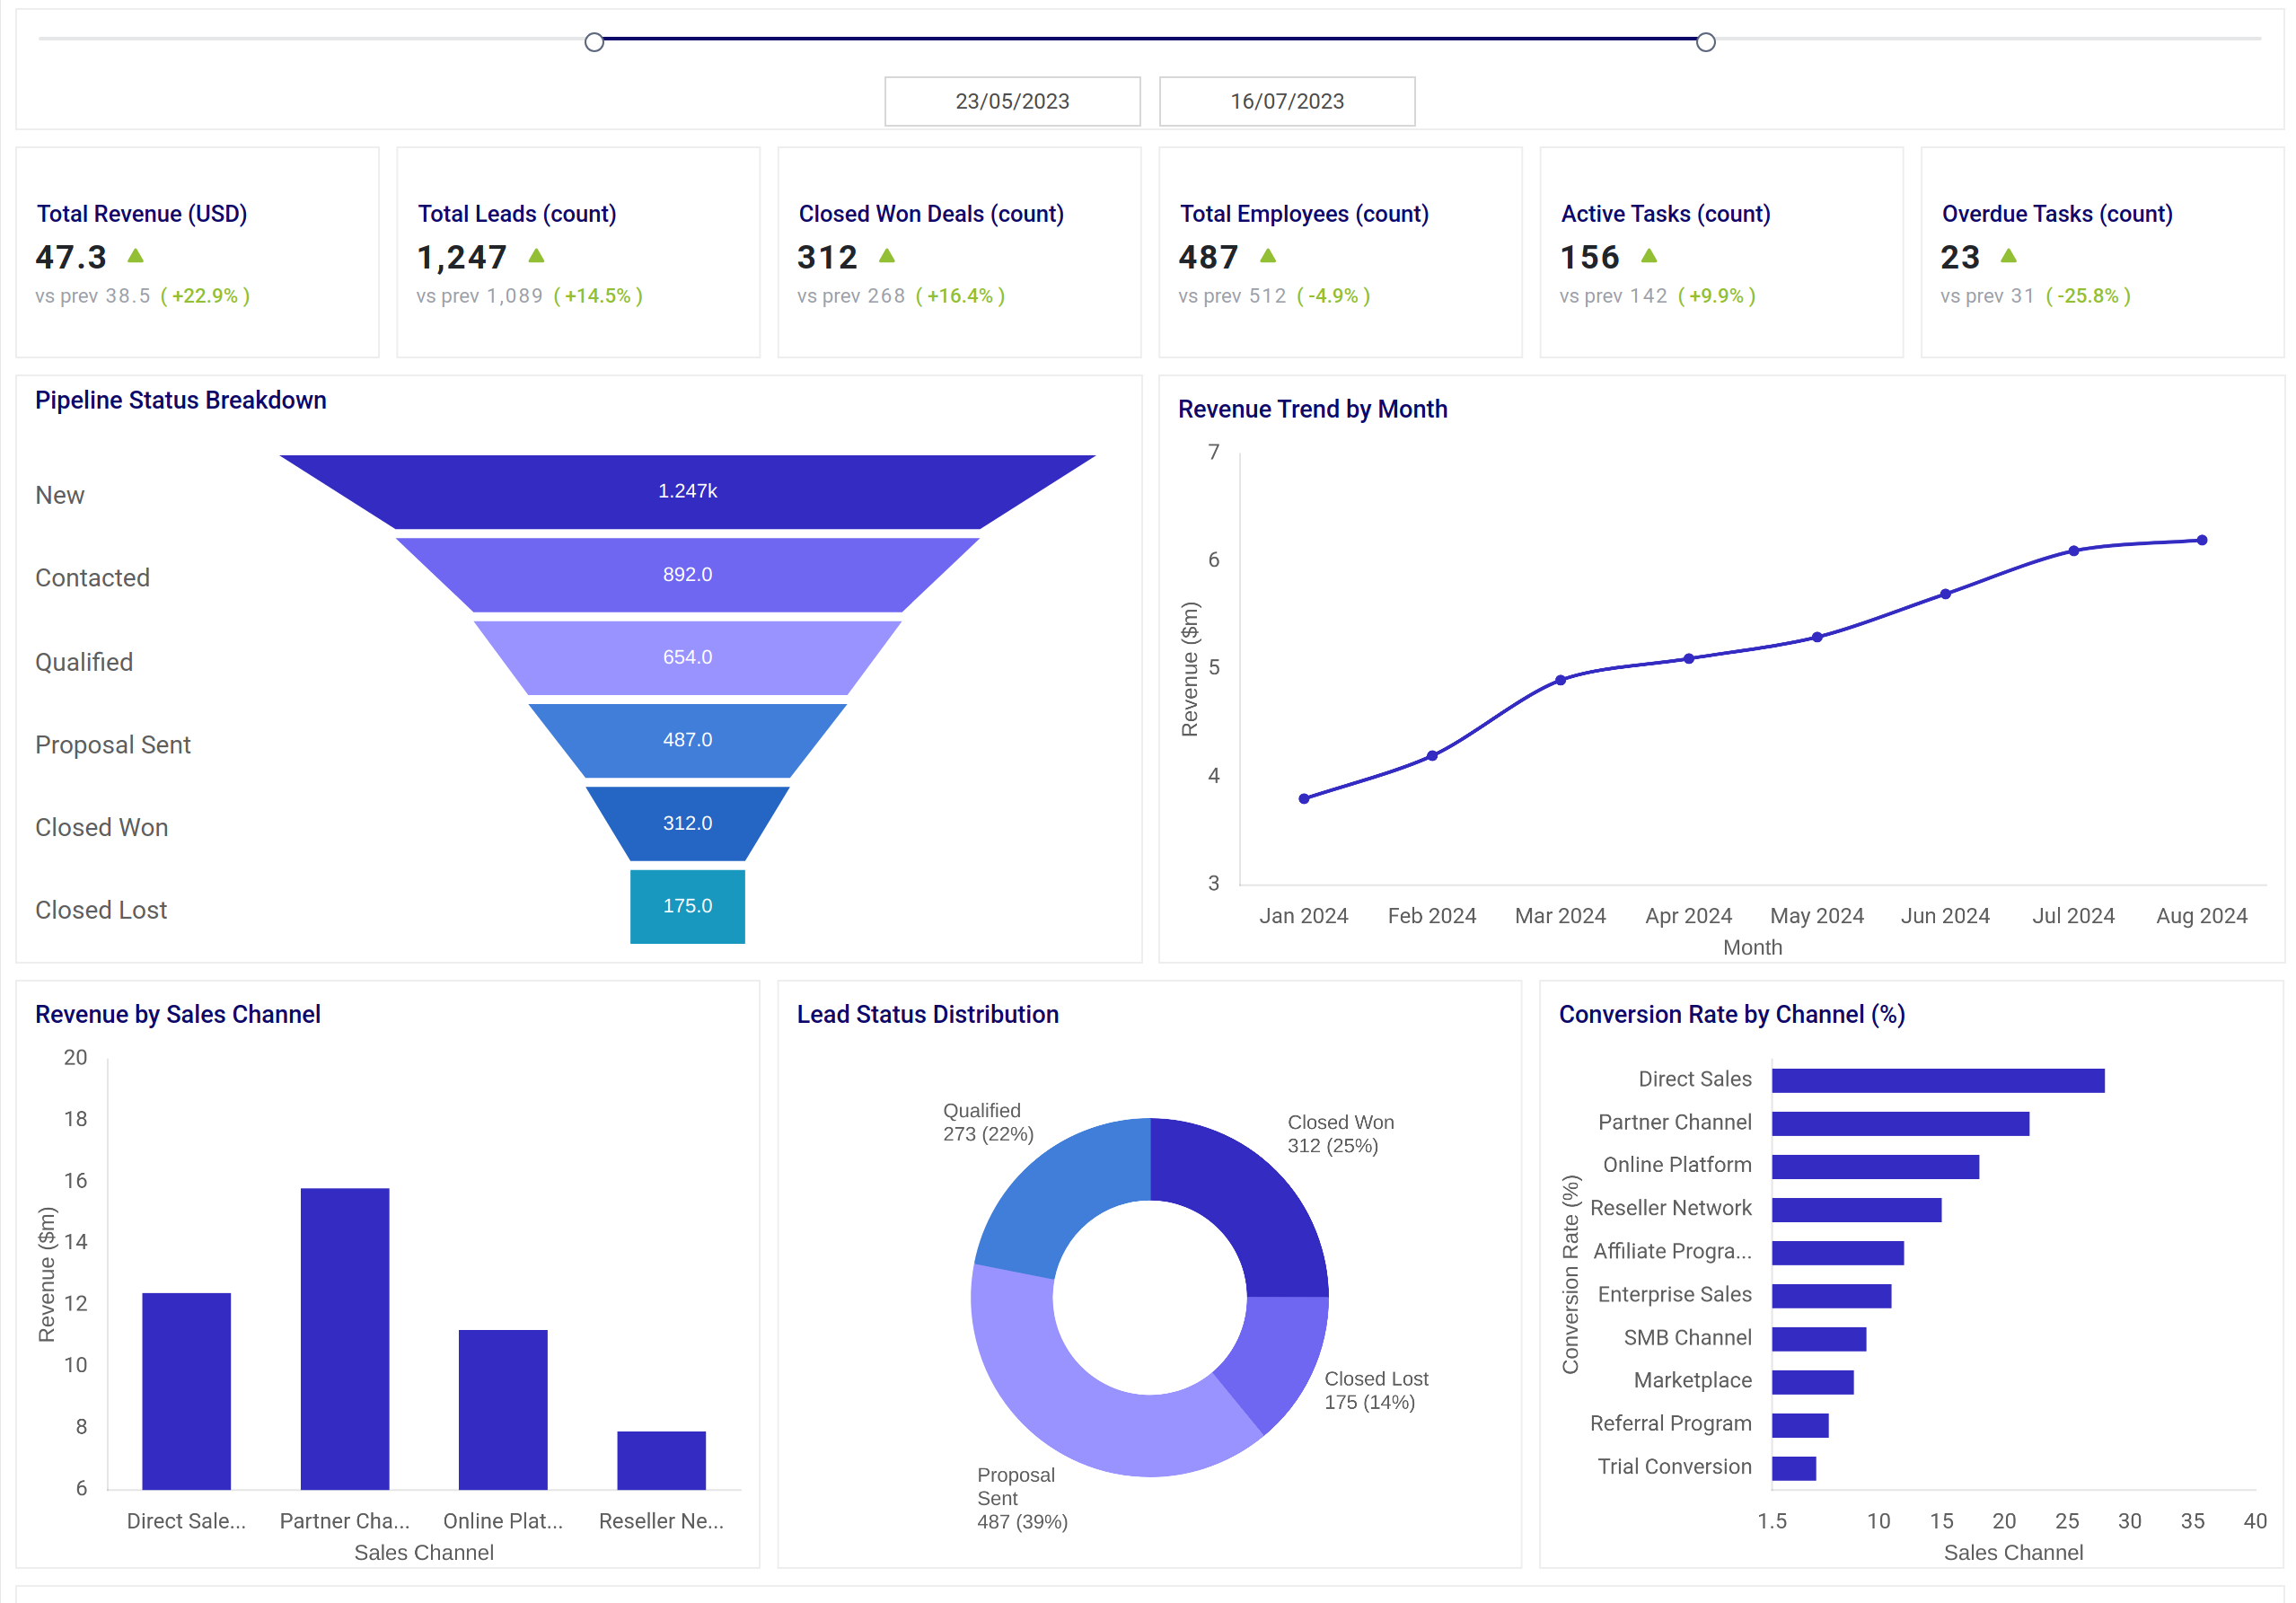

The dashboard page shown, as its layout file describes it:
{"tool":"powerbi","page":{"name":"Executive Overview - CEO Snapshot","canvas":[1280,1194],"ordinal":0},"visuals":[{"type":"group","id":"g1","title":"Group 1","box":[7,7,1266,55],"z":0},{"type":"shape","box":[7,7,1266,55],"z":0,"group":"g1"},{"type":"shape","box":[953.5,19,316.5,30],"z":0,"group":"g15"},{"type":"shape","box":[7,69,1266,70],"z":0,"group":"g14"},{"type":"shape","box":[7,146,205.2,120],"z":0,"group":"g13"},{"type":"shape","box":[219.2,146,205.2,120],"z":0,"group":"g12"},{"type":"shape","box":[431.4,146,205.2,120],"z":0,"group":"g11"},{"type":"shape","box":[643.6,146,205.2,120],"z":0,"group":"g10"},{"type":"shape","box":[855.8,146,205.2,120],"z":0,"group":"g9"},{"type":"shape","box":[1068,146,205,120],"z":0,"group":"g8"},{"type":"shape","box":[7,273,629.5,330],"z":0,"group":"g7"},{"type":"shape","box":[643.5,273,629.5,330],"z":0,"group":"g6"},{"type":"shape","box":[7,610,417.3,330],"z":0,"group":"g5"},{"type":"shape","box":[431.3,610,417.3,330],"z":0,"group":"g4"},{"type":"shape","box":[855.6,610,417.4,330],"z":0,"group":"g3"},{"type":"shape","box":[7,947,1266,240],"z":0,"group":"g2"},{"type":"shape","box":[8,948,1264,30],"z":0,"group":"g17"},{"type":"shape","title":"null","box":[9,71,1264,20],"z":10,"group":"g16"},{"type":"group","id":"g2","title":"Group 1","box":[7,947,1266,240],"z":50},{"type":"group","id":"g3","title":"Group 1","box":[855.6,610,417.4,330],"z":100},{"type":"group","id":"g4","title":"Group 1","box":[431.3,610,417.3,330],"z":150},{"type":"group","id":"g5","title":"Group 1","box":[7,610,417.3,330],"z":200},{"type":"group","id":"g6","title":"Group 1","box":[643.5,273,629.5,330],"z":250},{"type":"group","id":"g7","title":"Group 1","box":[7,273,629.5,330],"z":300},{"type":"group","id":"g8","title":"Group 1","box":[1068,146,205,120],"z":350},{"type":"group","id":"g9","title":"Group 1","box":[855.8,146,205.2,120],"z":400},{"type":"group","id":"g10","title":"Group 1","box":[643.6,146,205.2,120],"z":450},{"type":"group","id":"g11","title":"Group 1","box":[431.4,146,205.2,120],"z":500},{"type":"group","id":"g12","title":"Group 1","box":[219.2,146,205.2,120],"z":550},{"type":"group","id":"g13","title":"Group 1","box":[7,146,205.2,120],"z":600},{"type":"group","id":"g14","title":"Group 1","box":[7,69,1266,70],"z":650},{"type":"slicer","fields":{"Values":["dim date.Date"]},"box":[9,91,1264,47],"z":652,"group":"g16"},{"type":"group","id":"g15","title":"Group 1","box":[7,19,1266,30],"z":1000,"group":"g1"},{"type":"shape","box":[7,19,949.5,30],"z":1000,"group":"g15"},{"type":"group","id":"g16","title":"Group 1","box":[8,70,1264,70],"z":1000,"group":"g14"},{"type":"kpi","title":"Total Revenue (USD)","fields":{"TrendLine":["dim date.Month"],"Indicator":["dim measure.total revenue (usd) current"],"Goal":["dim measure.total revenue (usd) vs prev"]},"box":[7,146,203.2,117],"z":1000,"group":"g13"},{"type":"kpi","title":"Total Leads (count)","fields":{"TrendLine":["dim date.Month"],"Indicator":["dim measure.total leads (count) current"],"Goal":["dim measure.total leads (count) vs prev"]},"box":[219.2,146,203.2,117],"z":1000,"group":"g12"},{"type":"kpi","title":"Closed Won Deals (count)","fields":{"TrendLine":["dim date.Month"],"Indicator":["dim measure.closed won deals (count) current"],"Goal":["dim measure.closed won deals (count) vs prev"]},"box":[431.4,146,203.2,117],"z":1000,"group":"g11"},{"type":"kpi","title":"Total Employees (count)","fields":{"TrendLine":["dim date.Month"],"Indicator":["dim measure.total employees (count) current"],"Goal":["dim measure.total employees (count) vs prev"]},"box":[643.6,146,203.2,117],"z":1000,"group":"g10"},{"type":"kpi","title":"Active Tasks (count)","fields":{"TrendLine":["dim date.Month"],"Indicator":["dim measure.active tasks (count) current"],"Goal":["dim measure.active tasks (count) vs prev"]},"box":[855.8,146,203.2,117],"z":1000,"group":"g9"},{"type":"kpi","title":"Overdue Tasks (count)","fields":{"TrendLine":["dim date.Month"],"Indicator":["dim measure.overdue tasks (count) current"],"Goal":["dim measure.overdue tasks (count) vs prev"]},"box":[1068,146,203,117],"z":1000,"group":"g8"},{"type":"shape","box":[8,274,627.5,30],"z":1000,"group":"g7"},{"type":"shape","box":[644.5,274,627.5,30],"z":1000,"group":"g6"},{"type":"shape","box":[8,611,415.3,30],"z":1000,"group":"g5"},{"type":"shape","box":[432.3,611,415.3,30],"z":1000,"group":"g4"},{"type":"shape","box":[856.6,611,415.4,30],"z":1000,"group":"g3"},{"type":"group","id":"g17","title":"Group 1","box":[7,947,1264,300],"z":1000,"group":"g2"},{"type":"tableEx","fields":{"Values":["Fact.simpletable_fact_1188","Fact.simpletable_fact_1189","Fact.simpletable_fact_1190","Fact.simpletable_fact_1191","Fact.simpletable_fact_1192","Fact.simpletable_fact_1193"]},"box":[8,978,1264,270],"z":1000,"group":"g17"},{"type":"funnel","fields":{"Category":["Pipeline status breakdown.funnel"],"Y":["Sum(Fact.funnel_fact_29)"]},"box":[8,304,627.5,297],"z":2000,"group":"g7"},{"type":"lineChart","title":"Title goes here","fields":{"Category":["Month237.linechart"],"Y":["Sum(Fact.revenue_158)"]},"box":[644.5,304,627.5,297],"z":2000,"group":"g6"},{"type":"clusteredColumnChart","title":"Title goes here","fields":{"Category":["Sales channel2.column"],"Y":["Sum(Fact.revenue_507)"]},"box":[8,641,415.3,297],"z":2000,"group":"g5"},{"type":"donutChart","title":"Title goes here","fields":{"Category":["Lead status.piechart"],"Y":["Sum(Fact.lead_status_fact)"]},"box":[432.3,641,415.3,297],"z":2000,"group":"g4"},{"type":"clusteredBarChart","title":"Title goes here","fields":{"Category":["Sales channel1.column"],"Y":["Sum(Fact.conversion_rate_506)"]},"box":[856.6,641,415.4,297],"z":2000,"group":"g3"}]}

Visuals, with their boxes on the page's 1280x1194 design canvas (x1, y1, x2, y2). These are canvas units, not pixel positions in the 2296x1603 screenshot, which may show the page scaled, cropped or inside an application window:
"Group 1" group: box(7, 7, 1273, 62)
shape: box(7, 7, 1273, 62)
shape: box(954, 19, 1270, 49)
shape: box(7, 69, 1273, 139)
shape: box(7, 146, 212, 266)
shape: box(219, 146, 424, 266)
shape: box(431, 146, 637, 266)
shape: box(644, 146, 849, 266)
shape: box(856, 146, 1061, 266)
shape: box(1068, 146, 1273, 266)
shape: box(7, 273, 636, 603)
shape: box(644, 273, 1273, 603)
shape: box(7, 610, 424, 940)
shape: box(431, 610, 849, 940)
shape: box(856, 610, 1273, 940)
shape: box(7, 947, 1273, 1187)
shape: box(8, 948, 1272, 978)
"null" shape: box(9, 71, 1273, 91)
"Group 1" group: box(7, 947, 1273, 1187)
"Group 1" group: box(856, 610, 1273, 940)
"Group 1" group: box(431, 610, 849, 940)
"Group 1" group: box(7, 610, 424, 940)
"Group 1" group: box(644, 273, 1273, 603)
"Group 1" group: box(7, 273, 636, 603)
"Group 1" group: box(1068, 146, 1273, 266)
"Group 1" group: box(856, 146, 1061, 266)
"Group 1" group: box(644, 146, 849, 266)
"Group 1" group: box(431, 146, 637, 266)
"Group 1" group: box(219, 146, 424, 266)
"Group 1" group: box(7, 146, 212, 266)
"Group 1" group: box(7, 69, 1273, 139)
slicer - dim date.Date: box(9, 91, 1273, 138)
"Group 1" group: box(7, 19, 1273, 49)
shape: box(7, 19, 956, 49)
"Group 1" group: box(8, 70, 1272, 140)
"Total Revenue (USD)" kpi: box(7, 146, 210, 263)
"Total Leads (count)" kpi: box(219, 146, 422, 263)
"Closed Won Deals (count)" kpi: box(431, 146, 635, 263)
"Total Employees (count)" kpi: box(644, 146, 847, 263)
"Active Tasks (count)" kpi: box(856, 146, 1059, 263)
"Overdue Tasks (count)" kpi: box(1068, 146, 1271, 263)
shape: box(8, 274, 636, 304)
shape: box(644, 274, 1272, 304)
shape: box(8, 611, 423, 641)
shape: box(432, 611, 848, 641)
shape: box(857, 611, 1272, 641)
"Group 1" group: box(7, 947, 1271, 1247)
tableEx - Fact.simpletable_fact_1188 x Fact.simpletable_fact_1189: box(8, 978, 1272, 1248)
funnel - Pipeline status breakdown.funnel x Sum(Fact.funnel_fact_29): box(8, 304, 636, 601)
"Title goes here" lineChart: box(644, 304, 1272, 601)
"Title goes here" clusteredColumnChart: box(8, 641, 423, 938)
"Title goes here" donutChart: box(432, 641, 848, 938)
"Title goes here" clusteredBarChart: box(857, 641, 1272, 938)
